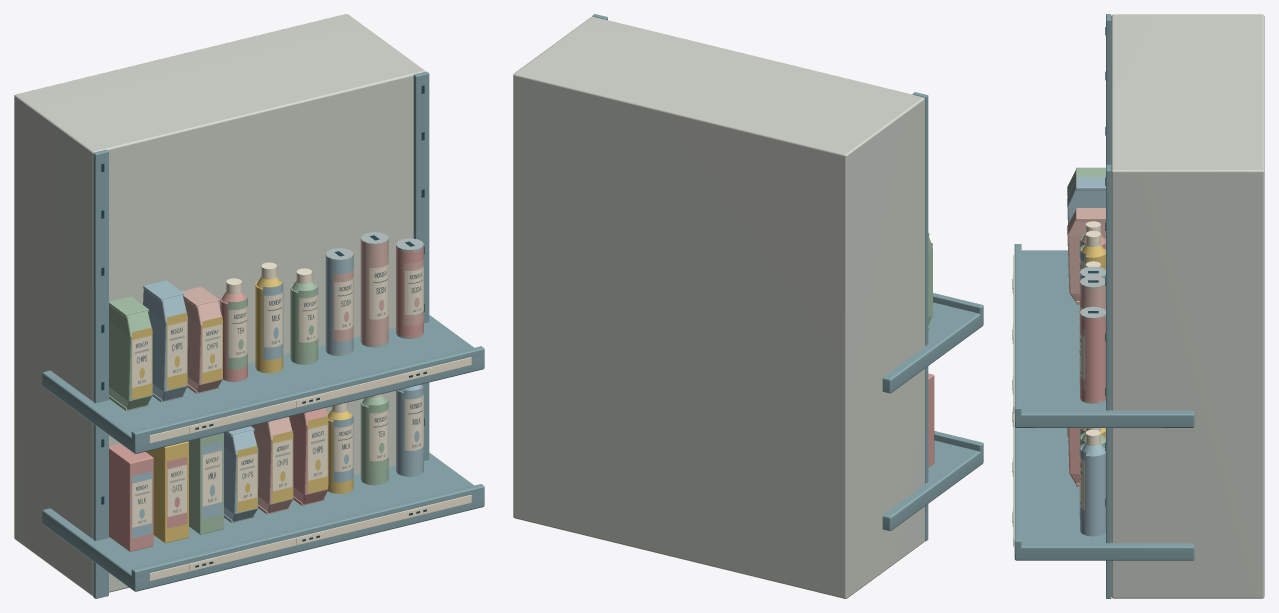
Rendered from stock-back.glb.
3 renders of one model, left to right at view 1: azimuth 30°, elevation 25°; view 2: azimuth 150°, elevation 25°; view 3: azimuth 270°, elevation 25°, orthographic. The views are drawn at different scales.
Visible parts, largest first — view 1: Original envelope back.003, Folded upright.006, Printed package label.102, Price ticket rail.008, Pillow pouch.028, Pillow pouch.029, Pillow pouch.031, Carton.025, Bottle body.029, Carton.026, Bottle body.028, Carton.027 (+8 smaller); view 2: Original envelope back.003, Folded upright.006, Carton.025; view 3: Original envelope back.003, Folded upright.006, Bottle body.030, Can.023, Pillow pouch.029, Price ticket rail.008, Printed package label.102, Pillow pouch.028, Undershelf bracket.016, Pillow pouch.030, Can.022, Bottle body.028 (+1 smaller).
Boxes of the visible parts, x1,y1,x2,y2 form: Original envelope back.003: [14, 14, 425, 595]; Folded upright.006: [42, 71, 484, 598]; Printed package label.102: [132, 255, 423, 538]; Price ticket rail.008: [149, 262, 471, 580]; Pillow pouch.028: [143, 280, 258, 522]; Pillow pouch.029: [182, 286, 293, 514]; Pillow pouch.031: [109, 296, 152, 410]; Carton.025: [109, 443, 153, 551]; Bottle body.029: [290, 281, 388, 485]; Carton.026: [146, 441, 188, 543]; Bottle body.028: [255, 276, 353, 493]; Carton.027: [188, 432, 223, 534]; Original envelope back.003: [513, 16, 924, 598]; Folded upright.006: [592, 14, 983, 541]; Carton.025: [928, 373, 934, 467]; Original envelope back.003: [1111, 14, 1264, 598]; Folded upright.006: [1014, 14, 1194, 598]; Bottle body.030: [1080, 443, 1105, 536]; Can.023: [1080, 310, 1105, 403]; Pillow pouch.029: [1067, 208, 1105, 304]; Price ticket rail.008: [1012, 221, 1100, 546]; Printed package label.102: [1079, 234, 1085, 522]; Pillow pouch.028: [1067, 177, 1105, 223]; Undershelf bracket.016: [1080, 266, 1105, 402]; Pillow pouch.030: [1068, 428, 1079, 486]; Can.022: [1080, 276, 1105, 310]; Bottle body.028: [1080, 244, 1105, 437].
Bounding box in the file's own units: 1.73 × 2.1 × 1.12.
Materials: 20 (1 with a texture image).
